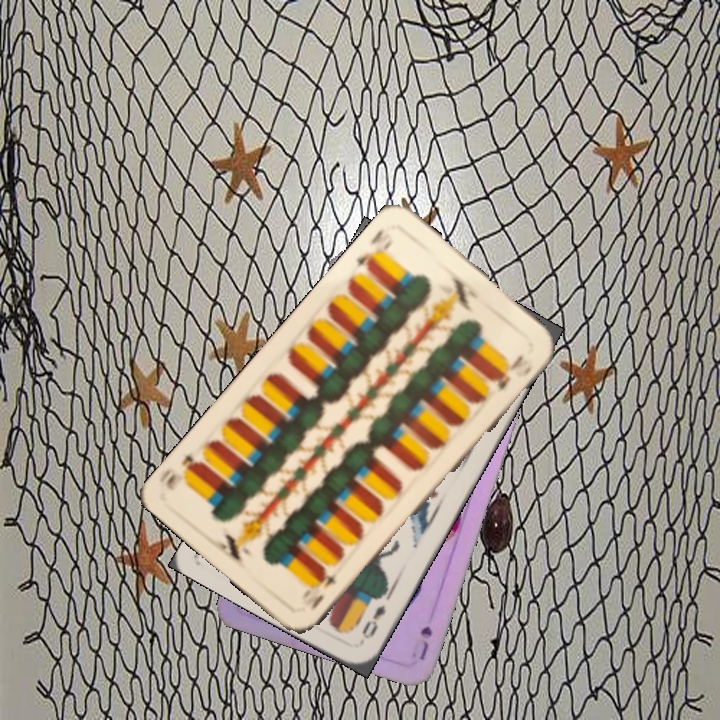E10: (351, 224, 396, 274), (307, 563, 342, 614)
EO: (358, 600, 388, 642)
SU: (415, 621, 435, 663)
